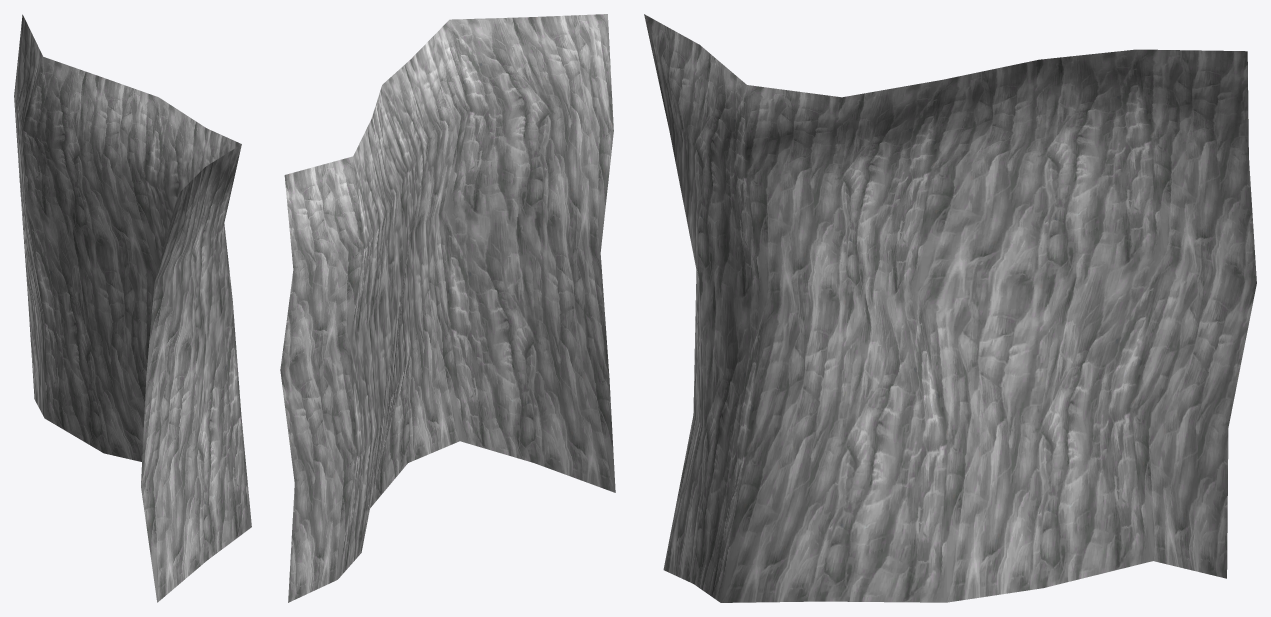
Rendered from SWORDLIGHT20_PS-AREA03_184.fbx.
3 views of the same model, side by side, from view 1: azimuth 30°, elevation 25°; view 2: azimuth 150°, elevation 25°; view 3: azimuth 270°, elevation 25° (orthographic). The views are drawn at different scales.
Visible parts, largest first — view 1: SWORDLIGHT20_PS-AREA03_184; view 2: SWORDLIGHT20_PS-AREA03_184; view 3: SWORDLIGHT20_PS-AREA03_184.
Boxes of the visible parts, left/top/right/bottom form: SWORDLIGHT20_PS-AREA03_184: left=14, top=14, right=251, bottom=602; SWORDLIGHT20_PS-AREA03_184: left=280, top=14, right=615, bottom=602; SWORDLIGHT20_PS-AREA03_184: left=644, top=14, right=1256, bottom=602.
Size of the model in its own units: 57168 by 174480 by 169752.
Materials: 1 (1 with a texture image).
